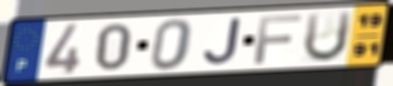0: (149, 17, 195, 72), (93, 22, 136, 72)
4: (43, 21, 84, 77)
F: (252, 13, 305, 66)
J: (201, 16, 243, 67)
U: (300, 9, 355, 65)
